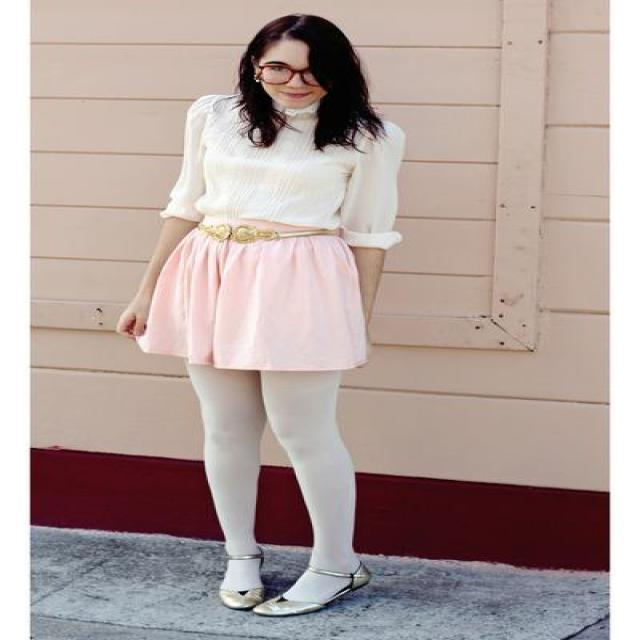shirt: (160, 95, 403, 247)
shoe: (198, 576, 364, 619)
skirt: (136, 228, 365, 370)
